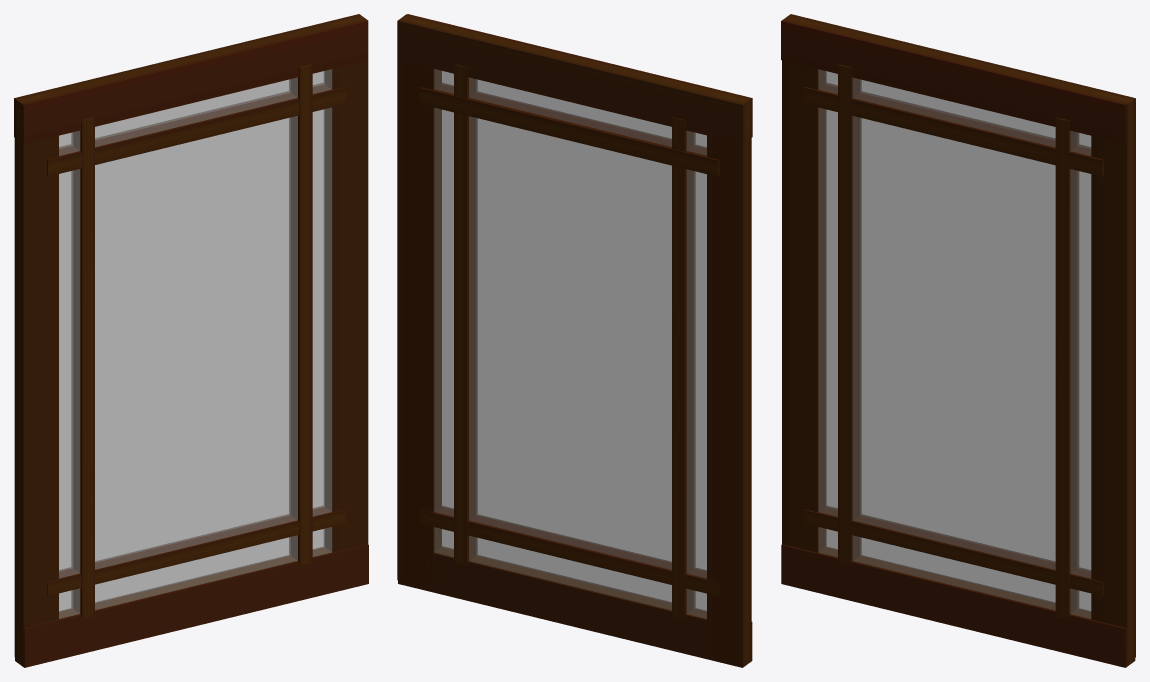
Rendered from sweethome3d-contributions-window-267.glb.
3 views of the same model, side by side, from view 1: azimuth 30°, elevation 25°; view 2: azimuth 150°, elevation 25°; view 3: azimuth 330°, elevation 25° (orthographic).
Parts seen in each view (by area): view 1: sweethome3d_window_pane, Cube_5_1, Cube_5, Cube_4_1, Cube_4, innerpane3, innerpane4, innerpane2, innerpane1; view 2: sweethome3d_window_pane, Cube_5_1, Cube_5, Cube_4_1, Cube_4, innerpane3, innerpane4, innerpane2, innerpane1; view 3: sweethome3d_window_pane, Cube_5, Cube_5_1, Cube_4_1, Cube_4, innerpane3, innerpane4, innerpane2, innerpane1.
Part boxes in pixels (x1,y1,x2,y2): sweethome3d_window_pane: (59, 69, 332, 618); Cube_5_1: (14, 89, 58, 663); Cube_5: (324, 14, 368, 552); Cube_4_1: (14, 15, 367, 143); Cube_4: (15, 544, 368, 667); innerpane3: (289, 64, 312, 565); innerpane4: (71, 117, 94, 618); innerpane2: (47, 83, 346, 176); innerpane1: (47, 506, 345, 595); sweethome3d_window_pane: (434, 69, 706, 618); Cube_5_1: (707, 90, 751, 664); Cube_5: (397, 14, 441, 588); Cube_4_1: (398, 14, 752, 143); Cube_4: (398, 546, 752, 667); innerpane3: (454, 64, 477, 565); innerpane4: (672, 117, 695, 619); innerpane2: (419, 83, 719, 176); innerpane1: (420, 506, 719, 596); sweethome3d_window_pane: (818, 69, 1091, 618); Cube_5: (1091, 89, 1135, 663); Cube_5_1: (782, 14, 826, 552); Cube_4_1: (781, 14, 1130, 143); Cube_4: (781, 544, 1135, 667); innerpane3: (1055, 117, 1078, 618); innerpane4: (838, 64, 861, 565); innerpane2: (804, 83, 1103, 176); innerpane1: (804, 506, 1103, 596).
Size of the model in its own units: 2.95 by 4.6 by 0.1658.
2 materials, 1 textured.
